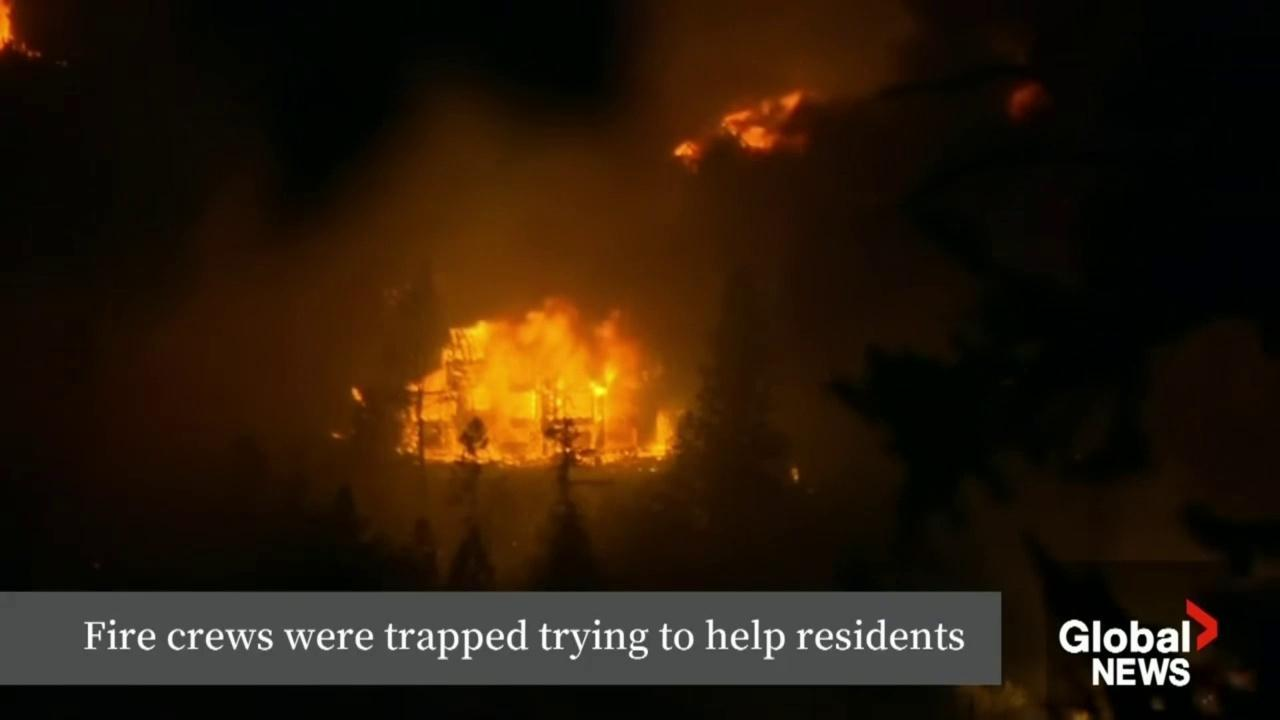fire: (396, 287, 686, 470), (717, 87, 817, 161), (0, 0, 49, 62), (1005, 79, 1046, 122), (671, 140, 705, 176), (346, 387, 372, 409)
smoke: (110, 0, 925, 575)
